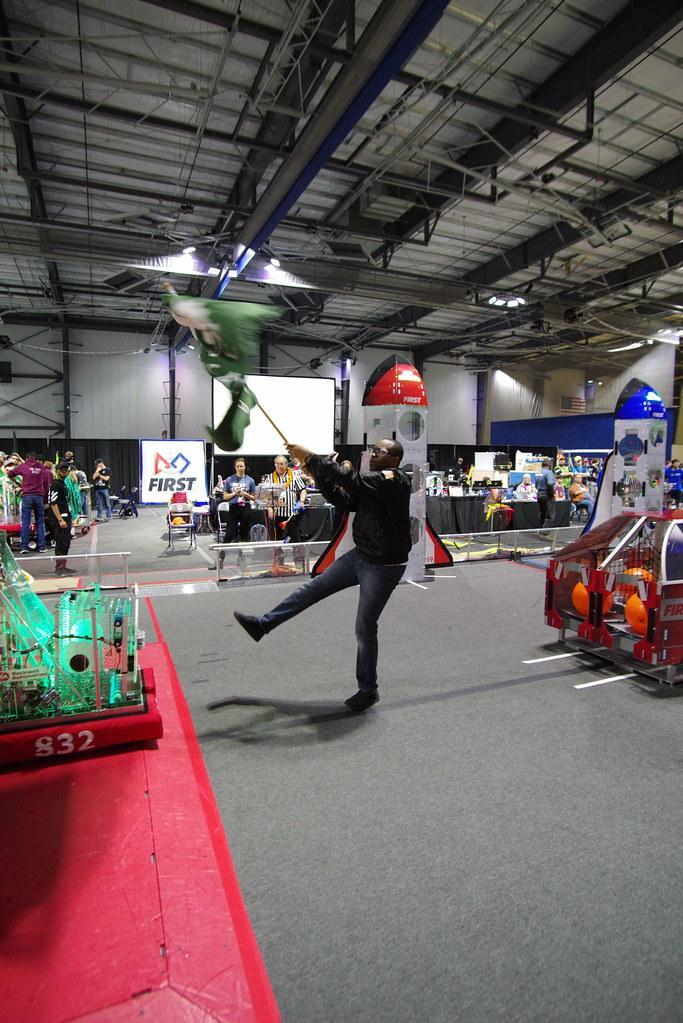robot: (0, 511, 176, 776)
